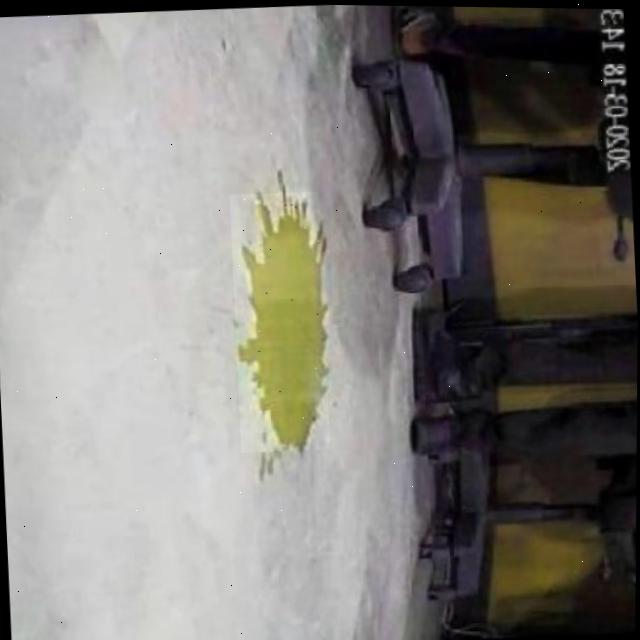spillage: (238, 192, 326, 448)
